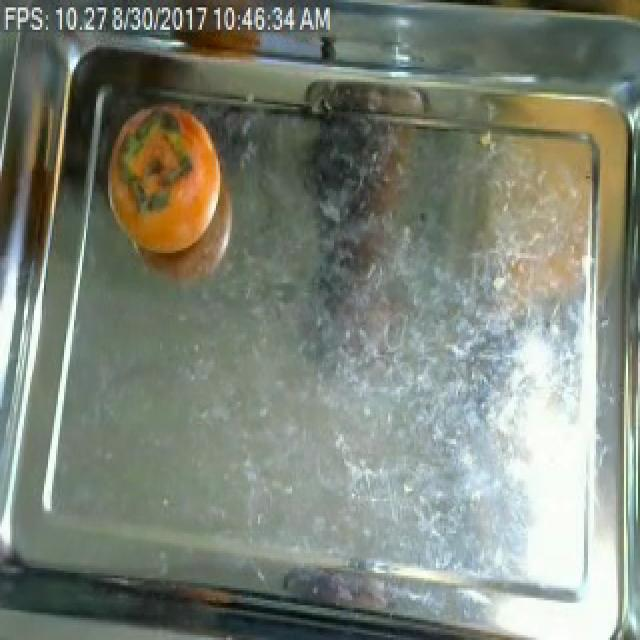Fruit: (468, 124, 604, 327), (100, 92, 232, 265)
